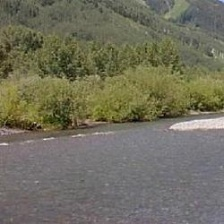neutral: (2, 2, 224, 199)
